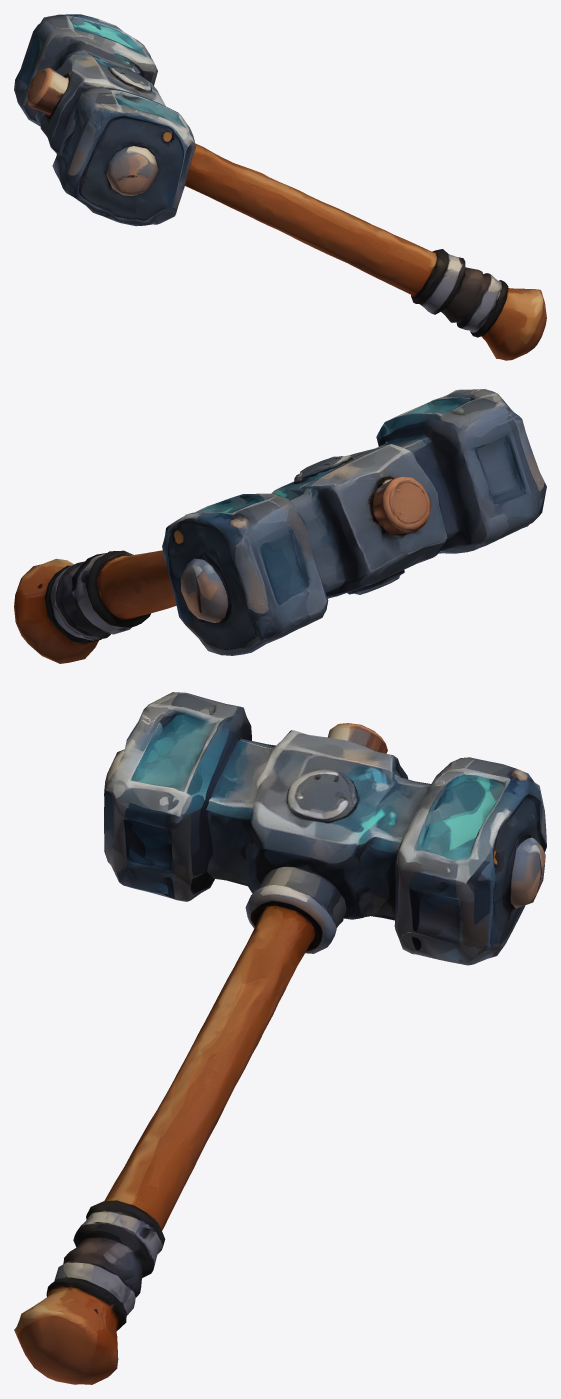
File: weapon_hammer_model.glb
3 views of the same model, one above another, from view 1: azimuth 30°, elevation 25°; view 2: azimuth 150°, elevation 25°; view 3: azimuth 270°, elevation 25° (orthographic). The views are drawn at different scales.
Visible parts, largest first — view 1: tripo_node_e1475915-1167-4e39-b08d-ca0dafd02af7; view 2: tripo_node_e1475915-1167-4e39-b08d-ca0dafd02af7; view 3: tripo_node_e1475915-1167-4e39-b08d-ca0dafd02af7.
Part boxes in pixels (box(x1,y1,x2,y2)): tripo_node_e1475915-1167-4e39-b08d-ca0dafd02af7: box(14, 14, 546, 360); tripo_node_e1475915-1167-4e39-b08d-ca0dafd02af7: box(14, 389, 546, 663); tripo_node_e1475915-1167-4e39-b08d-ca0dafd02af7: box(14, 692, 546, 1384).
Size of the model in its own units: 1 by 0.6859 by 0.757.
Materials: 1 (1 with a texture image).
